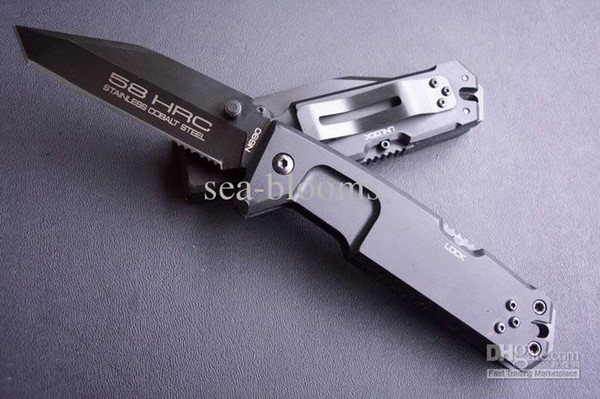knife: (8, 19, 272, 176)
